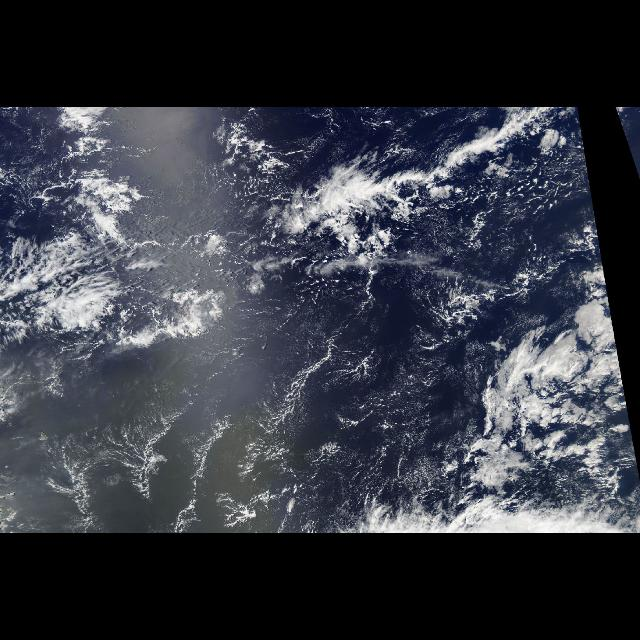Fish: (253, 150, 562, 248)
